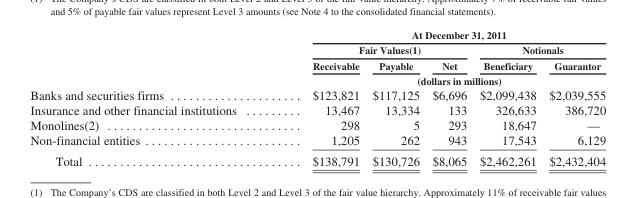table: (29, 28, 605, 167)
table column: (29, 28, 273, 167), (273, 28, 365, 167), (472, 28, 542, 167), (542, 28, 605, 167), (365, 28, 425, 167), (425, 28, 472, 167)
table column header: (29, 28, 605, 86)
table row: (29, 132, 605, 150), (29, 150, 605, 167), (29, 86, 605, 102), (29, 42, 605, 57), (29, 57, 605, 72), (29, 102, 605, 117), (29, 117, 605, 132), (29, 28, 605, 42), (29, 72, 605, 86)
table spanning cell: (273, 28, 605, 42), (273, 72, 605, 86), (273, 42, 472, 57), (472, 42, 605, 57)
